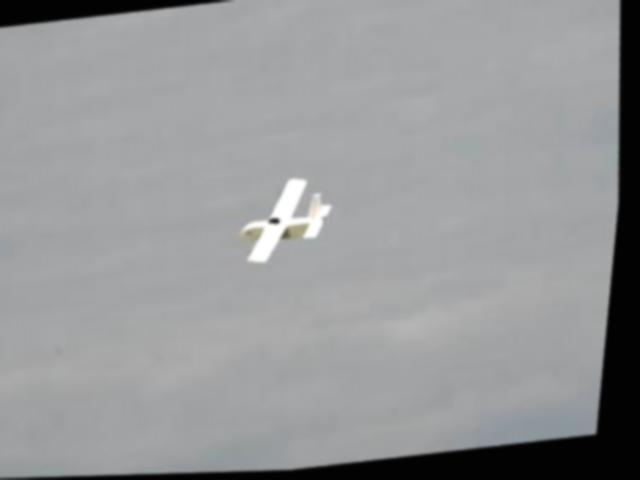uav: (236, 174, 345, 271)
